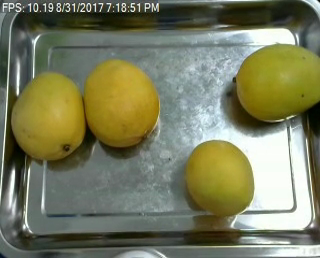Mango: (234, 43, 320, 123), (12, 73, 88, 161), (85, 58, 159, 147), (184, 140, 255, 216)
